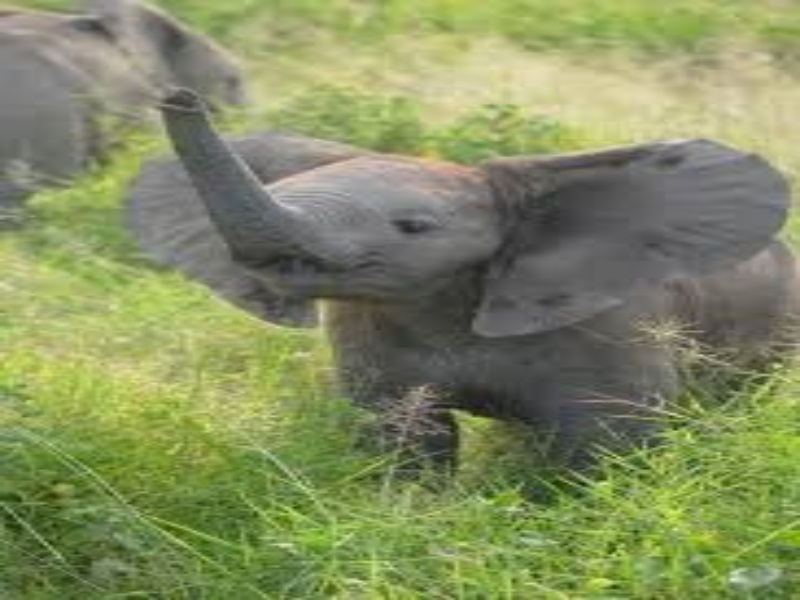elephant: (118, 78, 797, 440)
